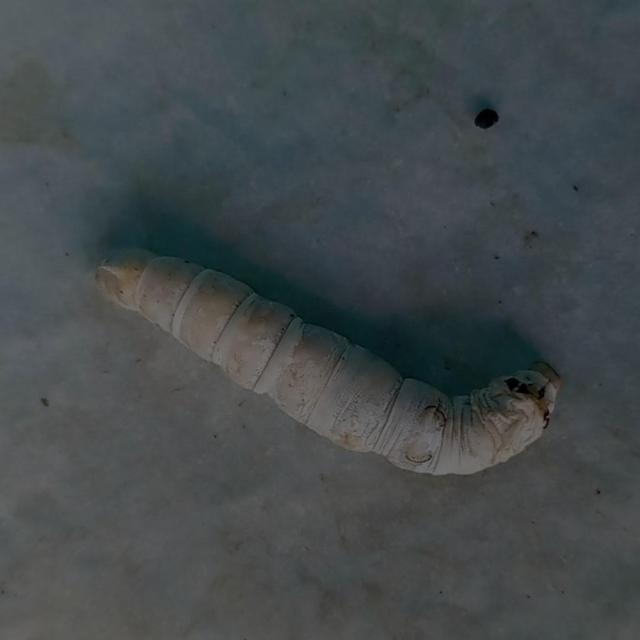Grasserie: (85, 229, 569, 492)
